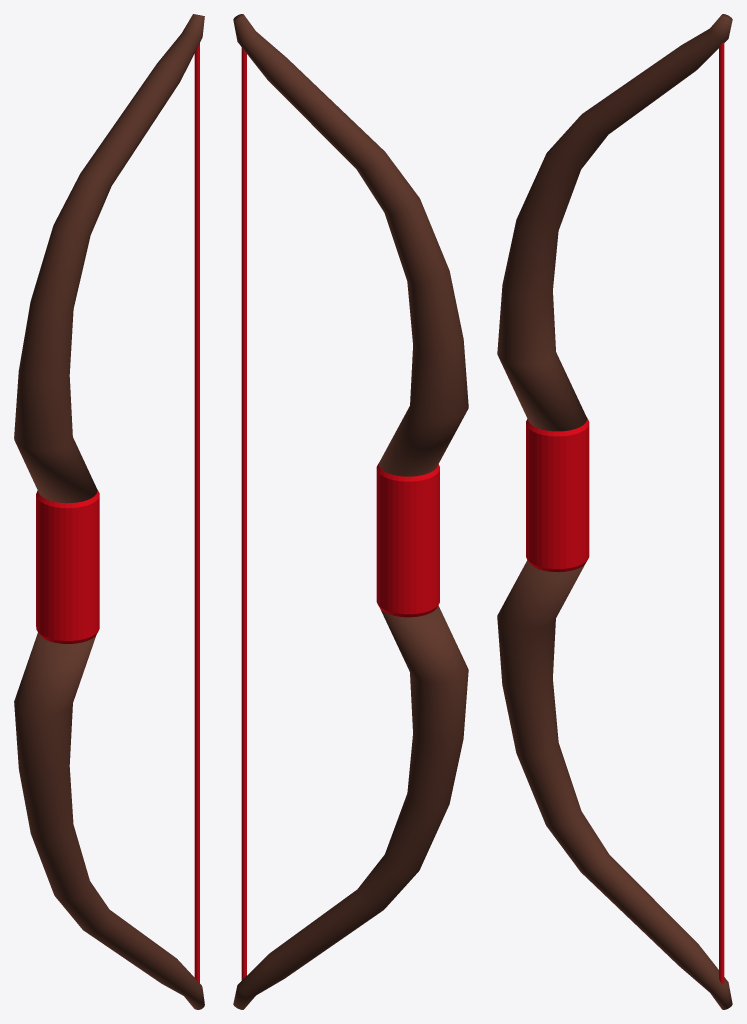
The model's file is Bow.fbx.
The picture shows the model from 3 angles, left to right: view 1: azimuth 30°, elevation 25°; view 2: azimuth 150°, elevation 25°; view 3: azimuth 330°, elevation 25°; orthographic projection.
Visible parts, largest first — view 1: Cylinder.001; view 2: Cylinder.001; view 3: Cylinder.001.
Part boxes in pixels (bbox=[...]): Cylinder.001: bbox=[14, 14, 204, 1009]; Cylinder.001: bbox=[233, 14, 468, 1009]; Cylinder.001: bbox=[497, 14, 732, 1009].
Bounding box in the file's own units: 816 × 3720 × 284.
